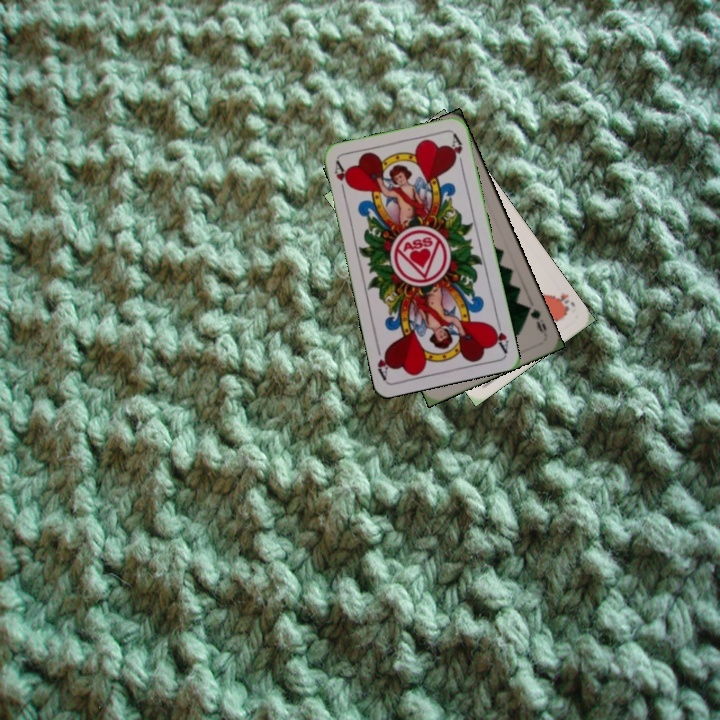G9: (521, 302, 549, 338)
HA: (487, 315, 511, 355), (330, 157, 353, 198)
HO: (549, 289, 578, 317)
